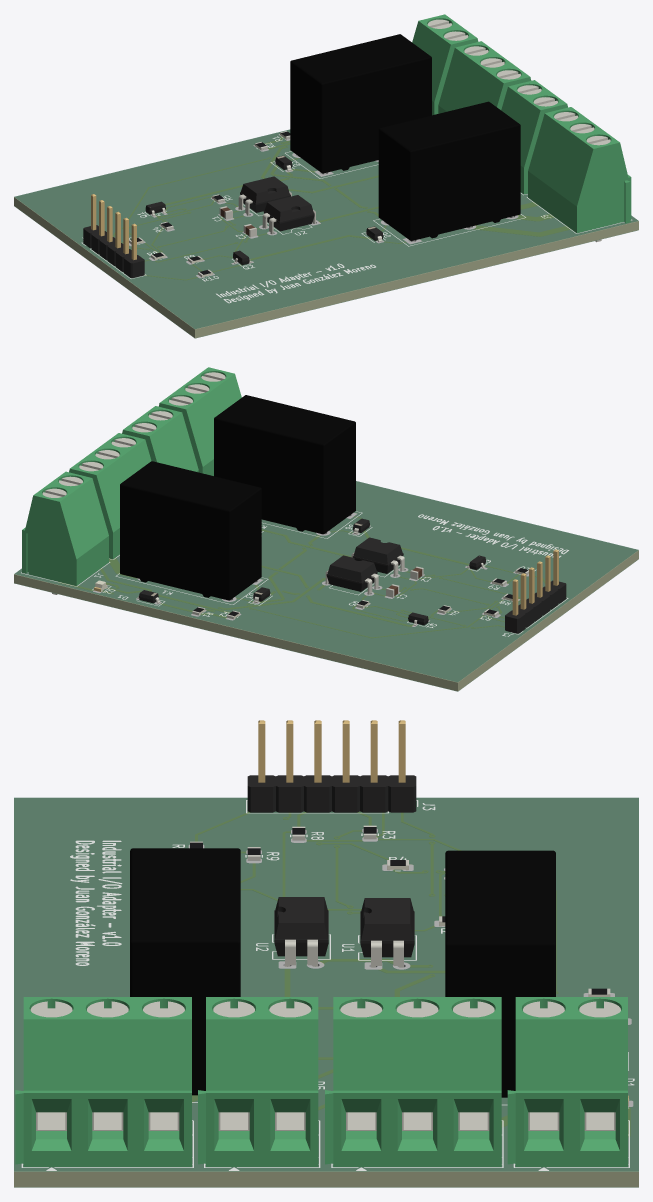
Rendered from Industrial_IO_Adapter.glb.
3 renders of one model, top to bottom at view 1: azimuth 30°, elevation 25°; view 2: azimuth 150°, elevation 25°; view 3: azimuth 270°, elevation 25°, orthographic. The views are drawn at different scales.
Visible parts, largest first — view 1: =>[0:1:1:26], =>[0:1:1:28], =>[0:1:1:11] (×2), =>[0:1:1:9] (×2), =>[0:1:1:15] (×2), =>[0:1:1:7] (×2), =>[0:1:1:21], =>[0:1:1:25], =>[0:1:1:22], =>[0:1:1:23], =>[0:1:1:27]; view 2: =>[0:1:1:26], =>[0:1:1:28], =>[0:1:1:11] (×2), =>[0:1:1:15] (×2), =>[0:1:1:9] (×2), =>[0:1:1:7] (×2), =>[0:1:1:21], =>[0:1:1:25], =>[0:1:1:22], =>[0:1:1:23], =>[0:1:1:27]; view 3: =>[0:1:1:28], =>[0:1:1:26], =>[0:1:1:9] (×2), =>[0:1:1:15] (×2), =>[0:1:1:11] (×2), =>[0:1:1:21], =>[0:1:1:7] (×2), =>[0:1:1:25], =>[0:1:1:22], =>[0:1:1:23].
Boxes of the visible parts, x1,y1,x2,y2 form: =>[0:1:1:26]: [14, 129, 638, 329]; =>[0:1:1:28]: [14, 130, 638, 338]; =>[0:1:1:11] (×2): [290, 34, 520, 241]; =>[0:1:1:9] (×2): [438, 41, 631, 242]; =>[0:1:1:15] (×2): [412, 14, 567, 194]; =>[0:1:1:7] (×2): [238, 176, 315, 234]; =>[0:1:1:21]: [83, 194, 144, 278]; =>[0:1:1:25]: [81, 136, 632, 303]; =>[0:1:1:22]: [113, 138, 569, 279]; =>[0:1:1:23]: [129, 134, 518, 278]; =>[0:1:1:27]: [14, 206, 638, 338]; =>[0:1:1:26]: [14, 481, 638, 682]; =>[0:1:1:28]: [14, 482, 638, 691]; =>[0:1:1:11] (×2): [120, 395, 355, 600]; =>[0:1:1:15] (×2): [22, 406, 198, 594]; =>[0:1:1:9] (×2): [69, 367, 241, 559]; =>[0:1:1:7] (×2): [325, 537, 404, 594]; =>[0:1:1:21]: [505, 549, 566, 633]; =>[0:1:1:25]: [21, 511, 568, 636]; =>[0:1:1:22]: [78, 517, 544, 637]; =>[0:1:1:23]: [93, 512, 528, 626]; =>[0:1:1:27]: [14, 559, 638, 691]; =>[0:1:1:28]: [14, 798, 638, 1187]; =>[0:1:1:26]: [14, 797, 638, 1171]; =>[0:1:1:9] (×2): [15, 997, 501, 1166]; =>[0:1:1:15] (×2): [198, 997, 627, 1166]; =>[0:1:1:11] (×2): [130, 848, 555, 1097]; =>[0:1:1:21]: [247, 720, 416, 812]; =>[0:1:1:7] (×2): [274, 897, 414, 967]; =>[0:1:1:25]: [21, 800, 634, 1170]; =>[0:1:1:22]: [192, 812, 629, 1126]; =>[0:1:1:23]: [188, 829, 633, 1106].
Size of the model in its own units: 0.08 by 0.0194 by 0.0565.
